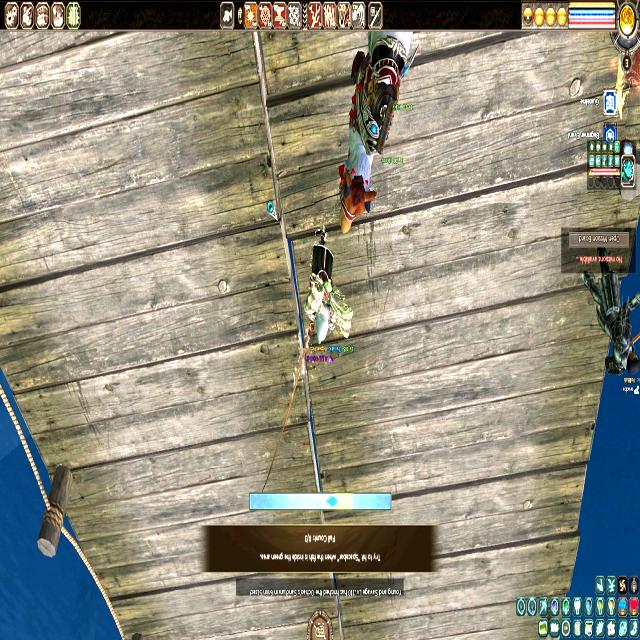fishes: (326, 495, 338, 509)
